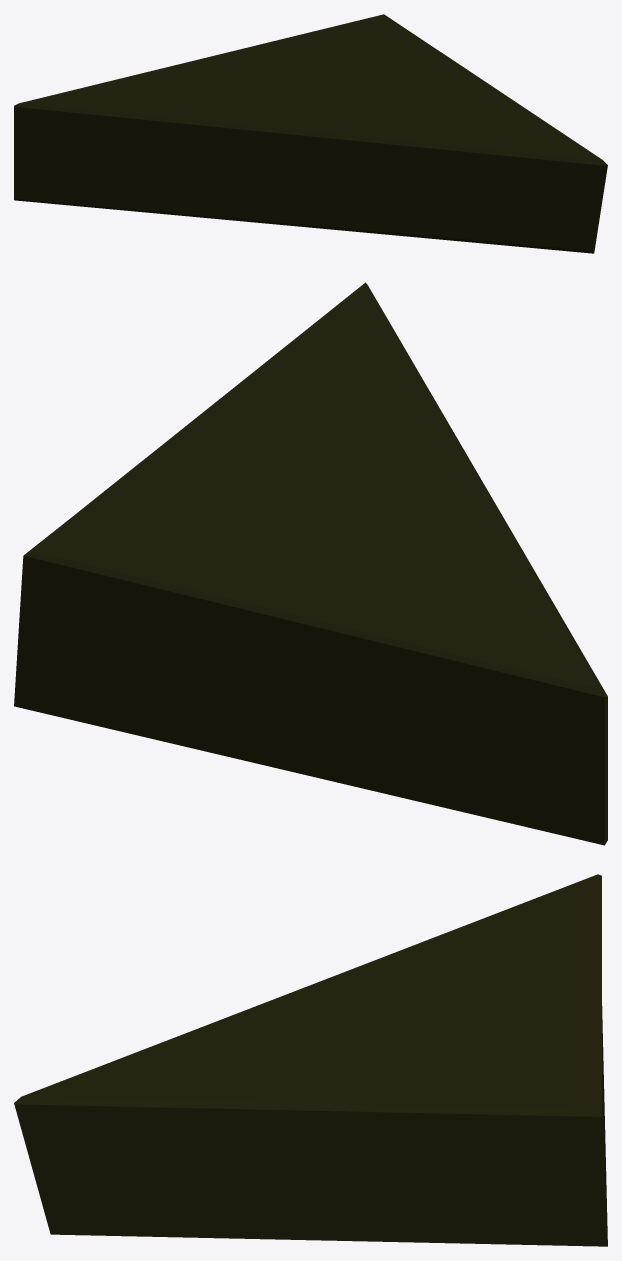
File: こんにゃく(おでん).fbx
3 renders of one model, top to bottom at view 1: azimuth 30°, elevation 25°; view 2: azimuth 150°, elevation 25°; view 3: azimuth 270°, elevation 25°, orthographic. The views are drawn at different scales.
Visible parts, largest first — view 1: 立方体; view 2: 立方体; view 3: 立方体.
Boxes of the visible parts, box(x1,y1,x2,y2) form: 立方体: box(14, 14, 607, 253); 立方体: box(14, 282, 607, 845); 立方体: box(14, 874, 607, 1246).
Size of the model in its own units: 232 by 65.08 by 238.
